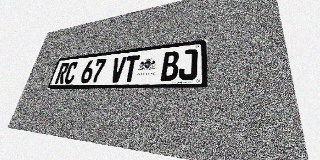6: (79, 60, 96, 83)
7: (90, 58, 107, 83)
B: (160, 51, 179, 81)
C: (63, 61, 79, 84)
J: (178, 49, 198, 81)
R: (54, 62, 70, 84)
T: (122, 55, 140, 82)
V: (109, 56, 127, 83)
